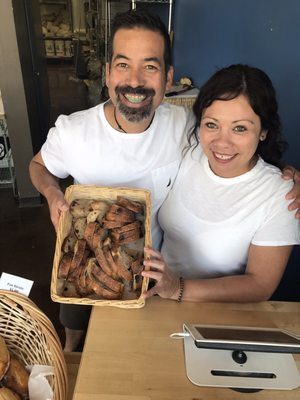curry: (69, 293, 300, 400)
